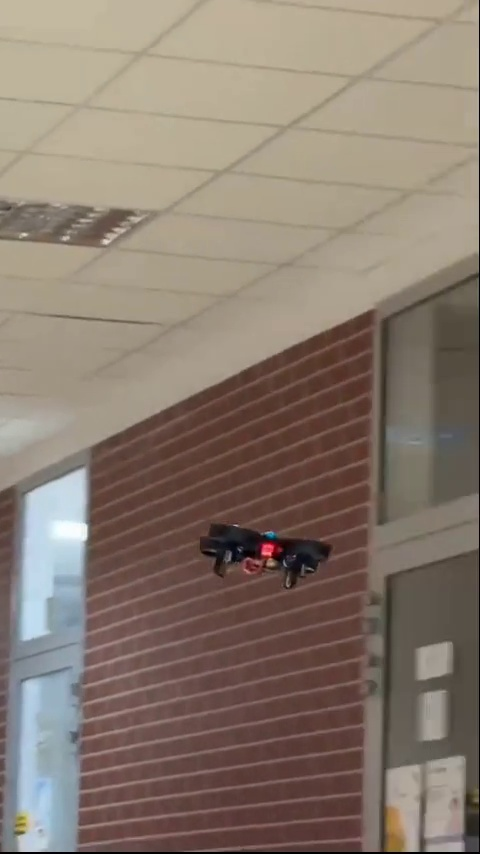drone: (207, 520, 325, 587)
